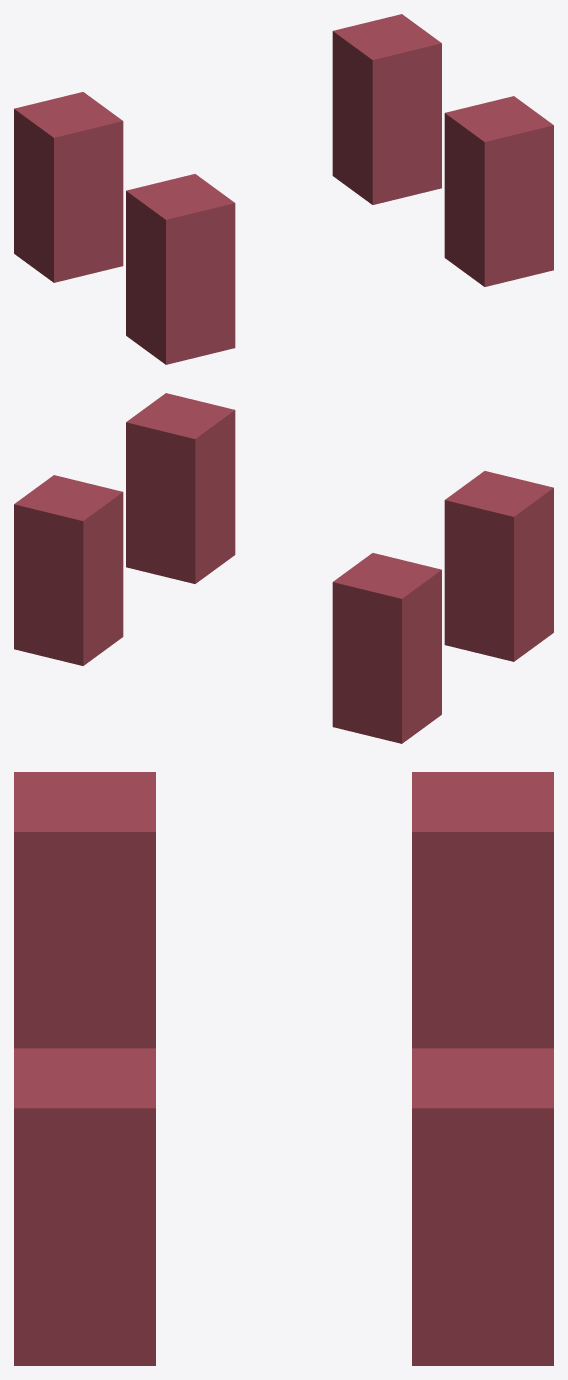
The model's file is Udder.fbx.
3 views of the same model, one above another, from view 1: azimuth 30°, elevation 25°; view 2: azimuth 150°, elevation 25°; view 3: azimuth 270°, elevation 25° (orthographic). The views are drawn at different scales.
Parts seen in each view (by area): view 1: Udder; view 2: Udder; view 3: Udder.
Boxes of the visible parts, x1,y1,x2,y2 form: Udder: (14,14,553,364); Udder: (14,393,553,743); Udder: (14,772,553,1365).
Bounding box in the file's own units: 28 × 10 × 19.
